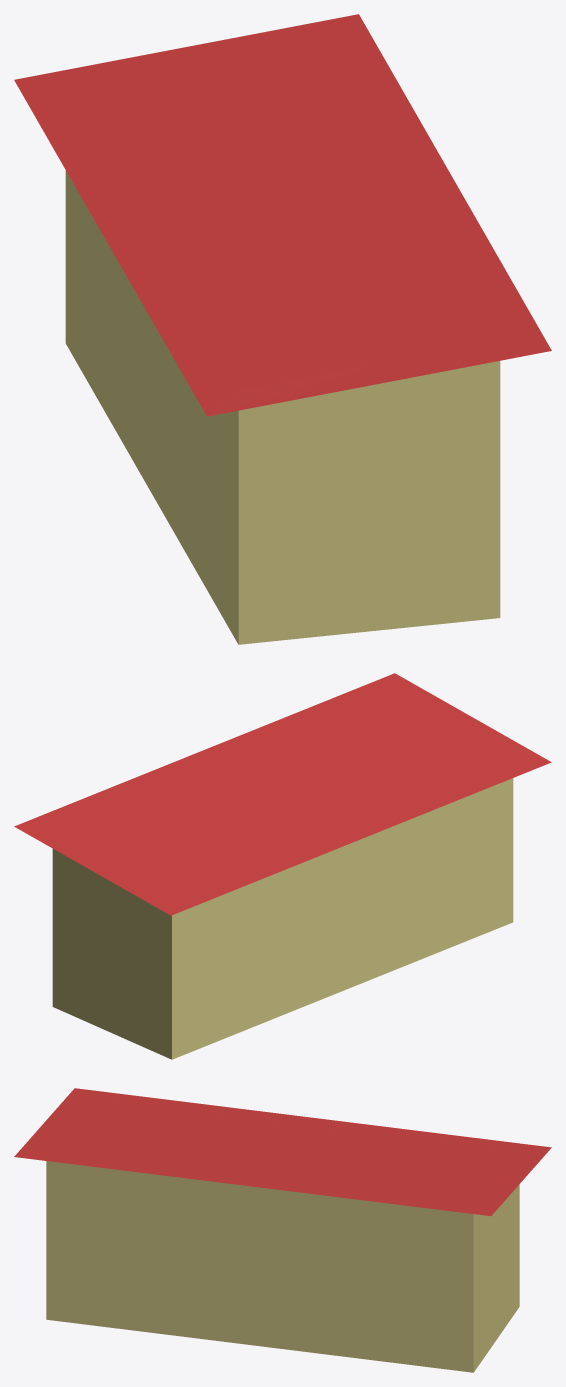
The picture shows the model from 3 angles, top to bottom: view 1: azimuth 30°, elevation 25°; view 2: azimuth 150°, elevation 25°; view 3: azimuth 270°, elevation 25°; orthographic projection. The views are drawn at different scales.
Size of the model in its own units: 13.38 by 20.76 by 7.24.
